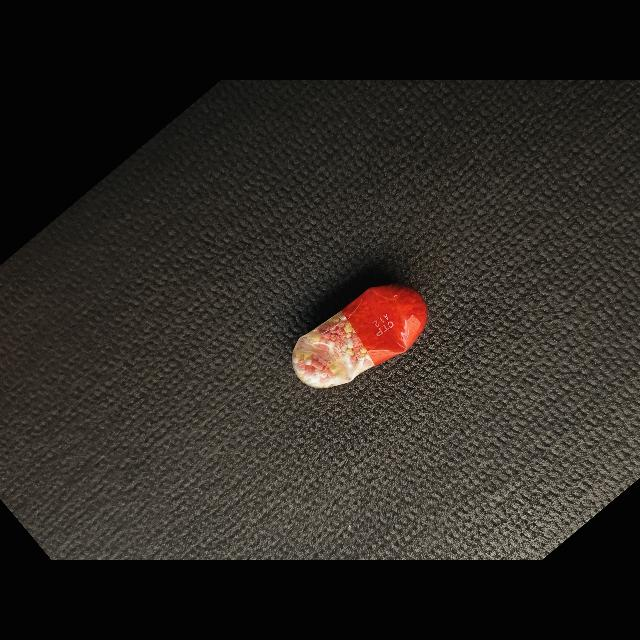Defective Capsule: (292, 284, 427, 389)
